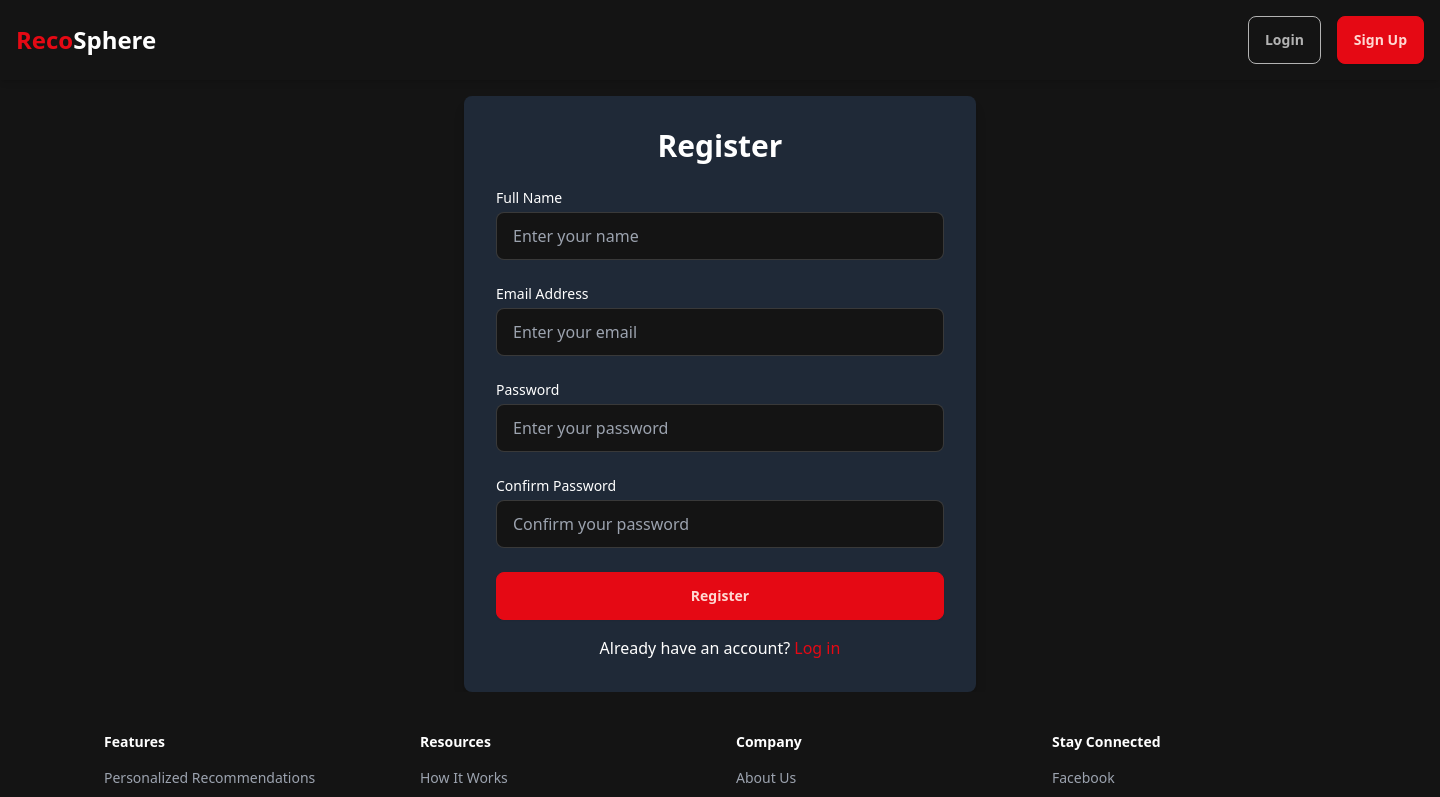
Register Component › displays error if the password is too short
Type "Test User" into the field labelled "Full Name".
click(720, 236); type("Test User")  # box [496, 212, 944, 260]
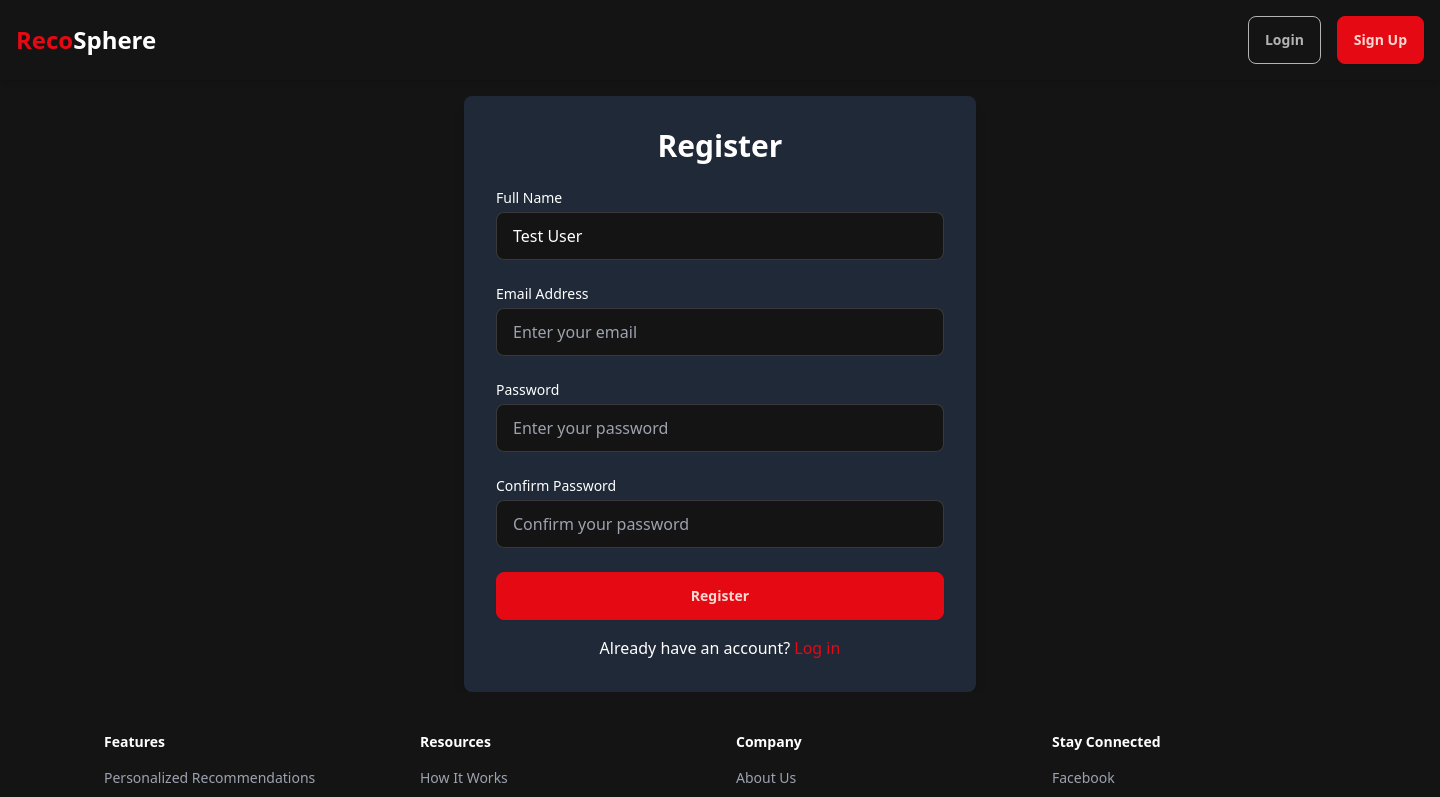
Type "test@example.com" into the field labelled "Email Address".
click(720, 332); type("test@example.com")  # box [496, 308, 944, 356]
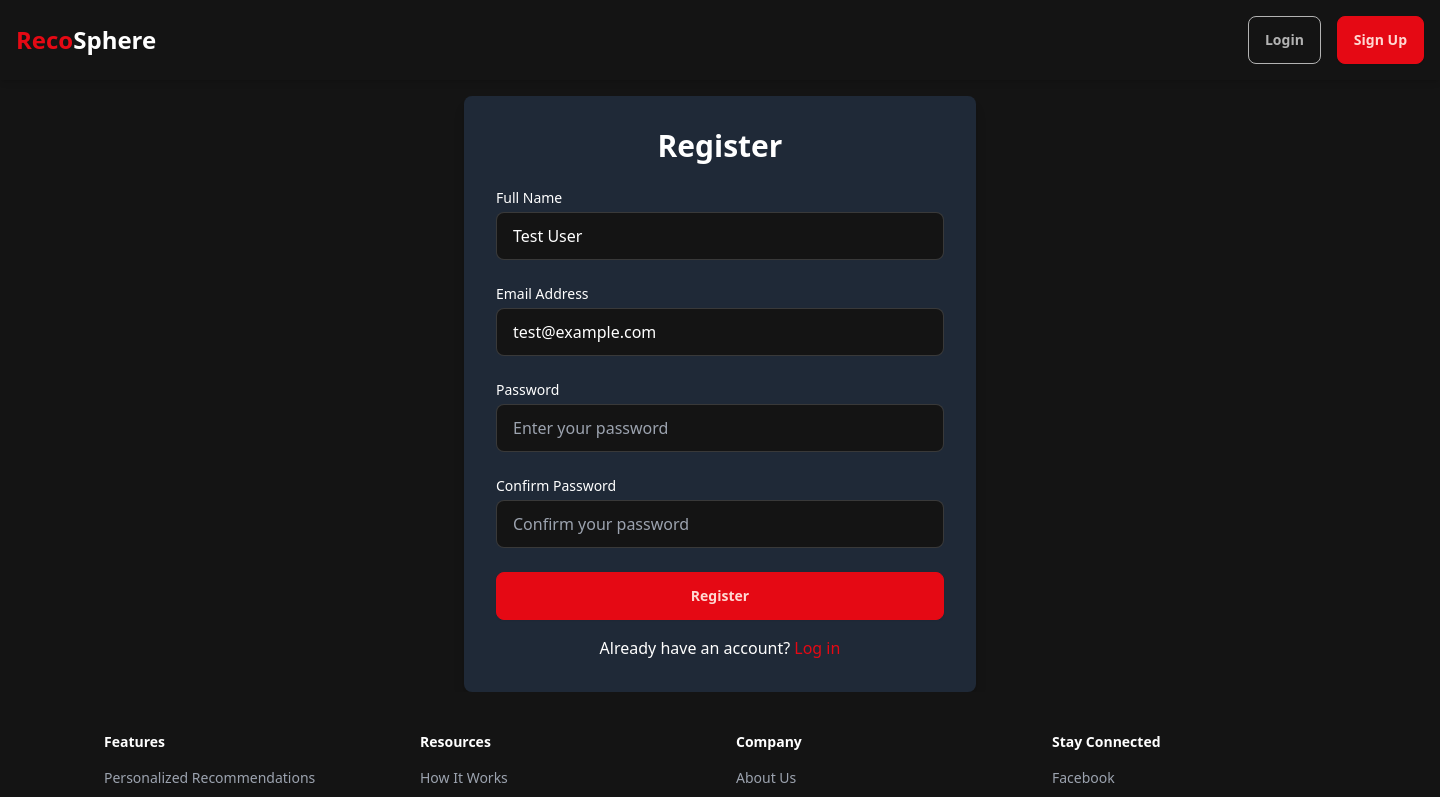
Type "123" into the password field labelled "Password".
click(720, 428); type("123")  # box [496, 404, 944, 452]
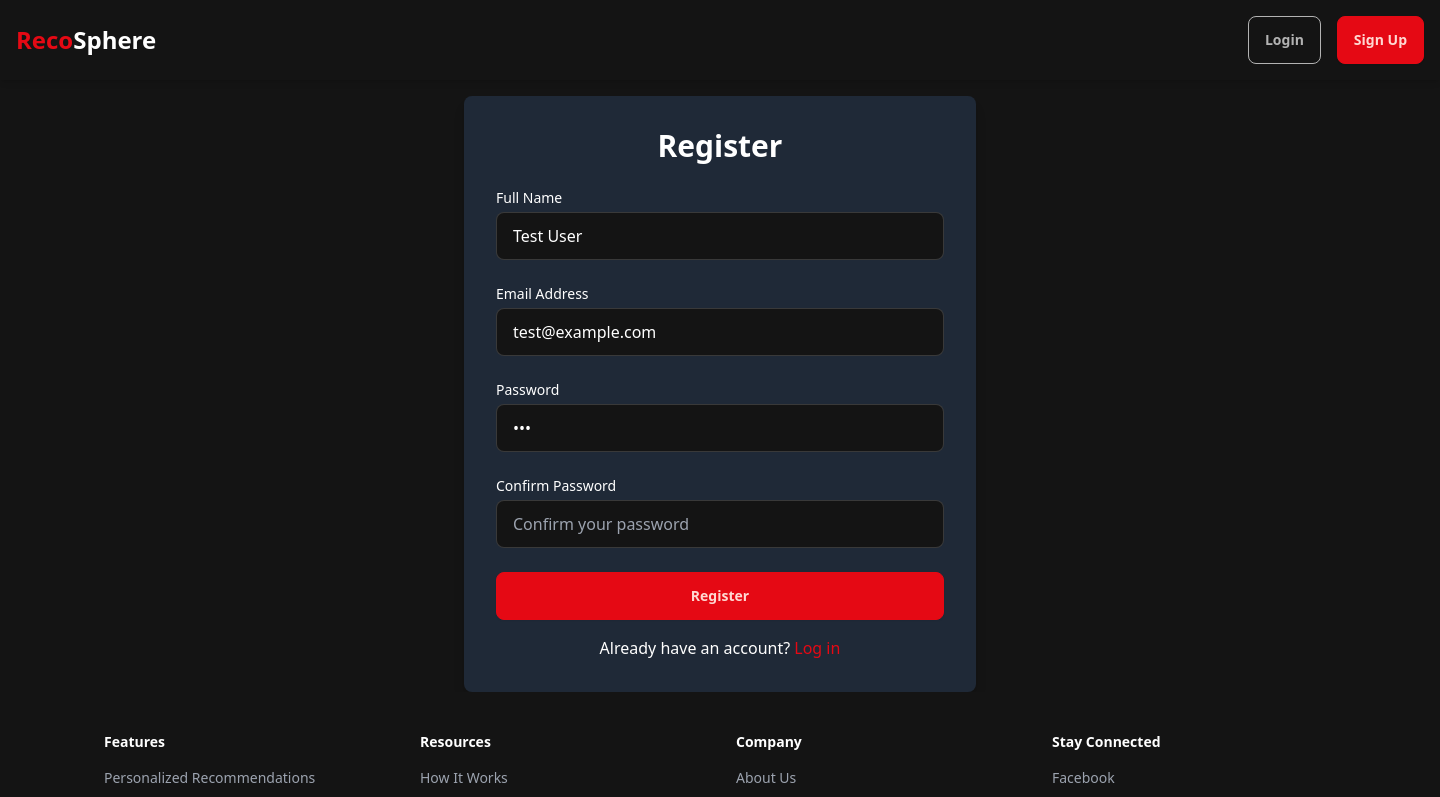
Type "123" into the password field labelled "Confirm Password".
click(720, 524); type("123")  # box [496, 500, 944, 548]
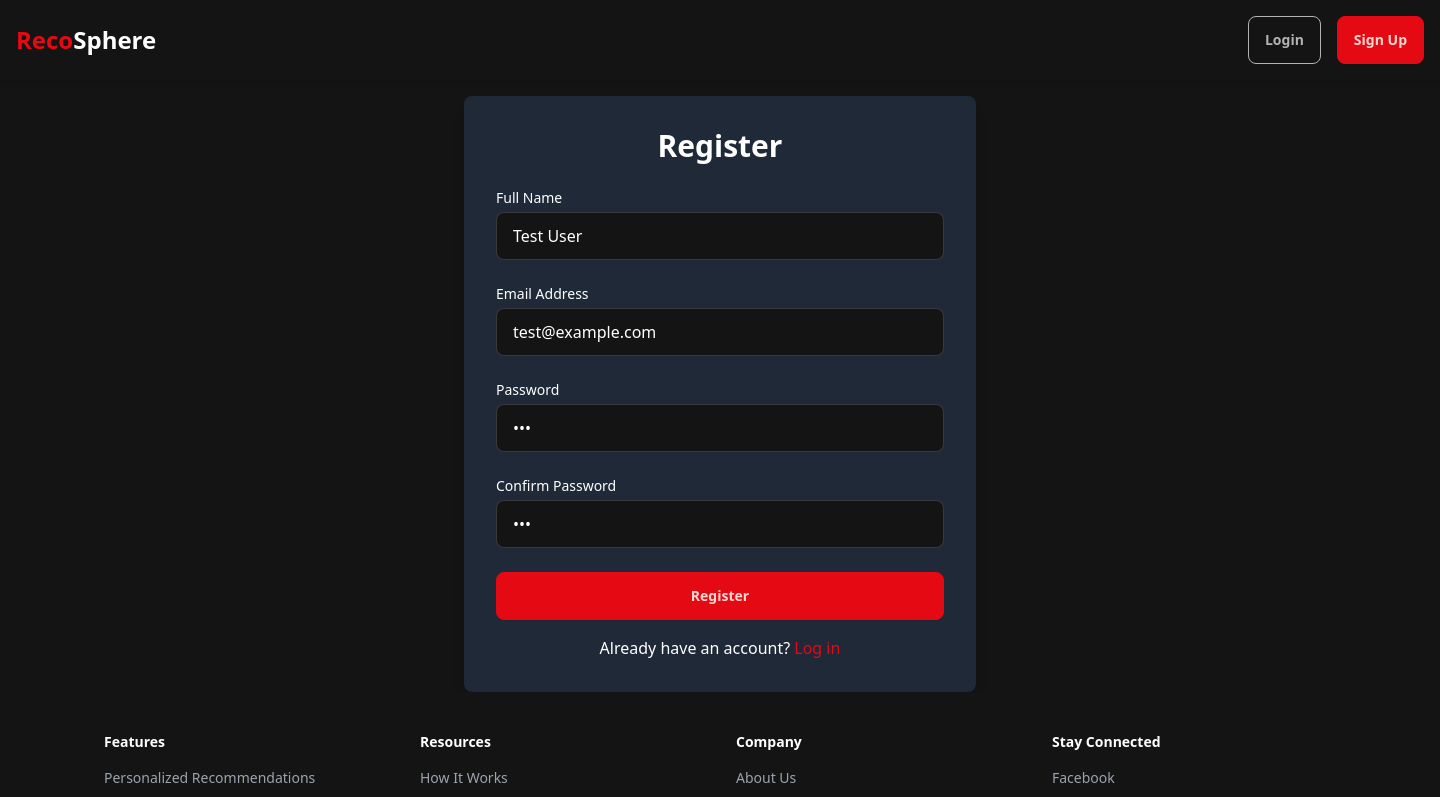
Click the button "Register".
click(720, 596)  # box [496, 572, 944, 620]
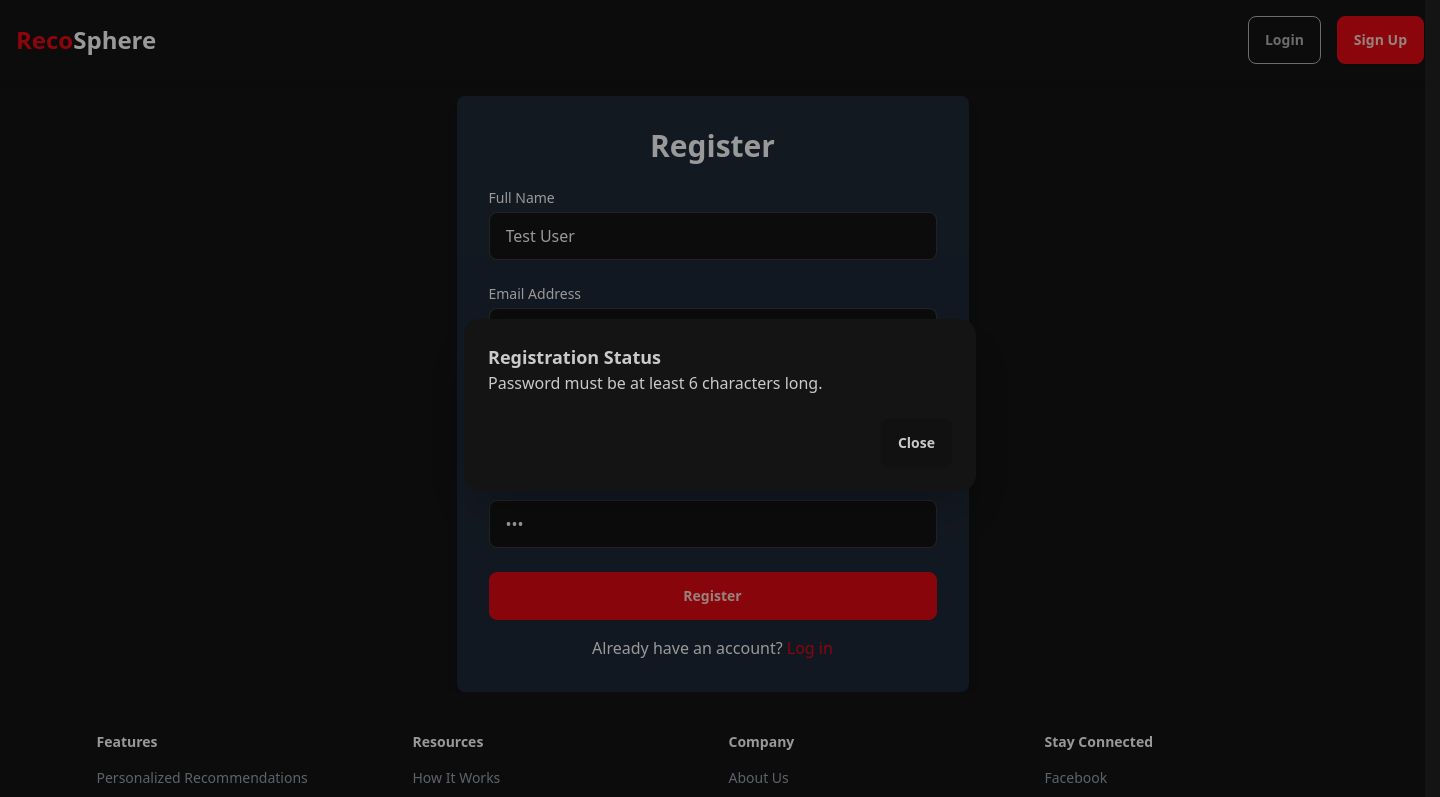
Result: the text "Password must be at least 6 characters long." is shown at [488, 372, 822, 394]
